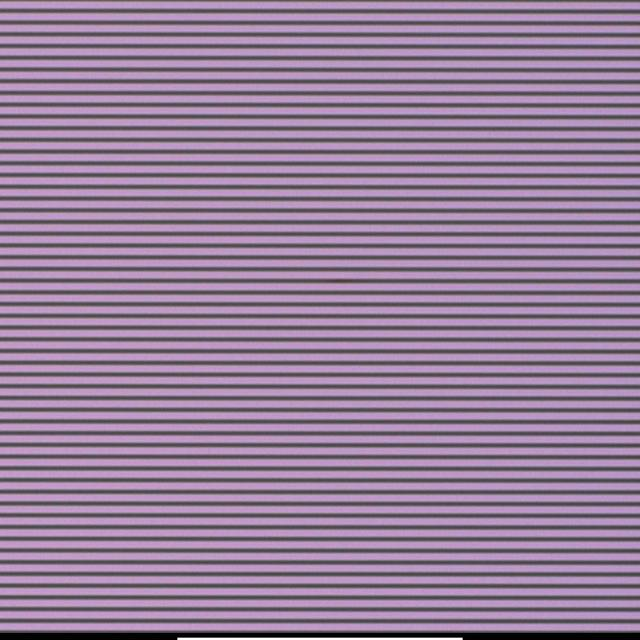03_intrusion: (300, 272, 310, 285)
